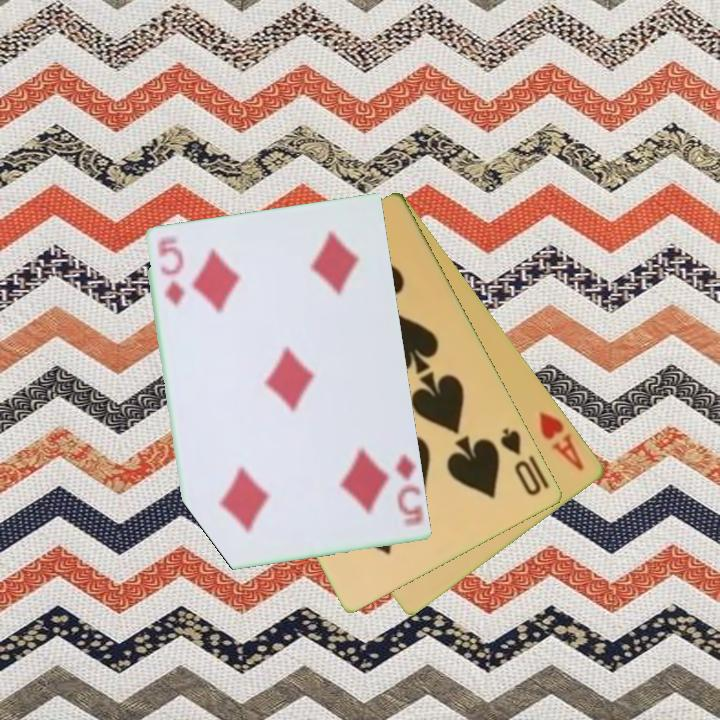10s: (497, 424, 545, 499)
5d: (392, 451, 426, 530), (154, 235, 185, 309)
Ah: (536, 408, 588, 474)
